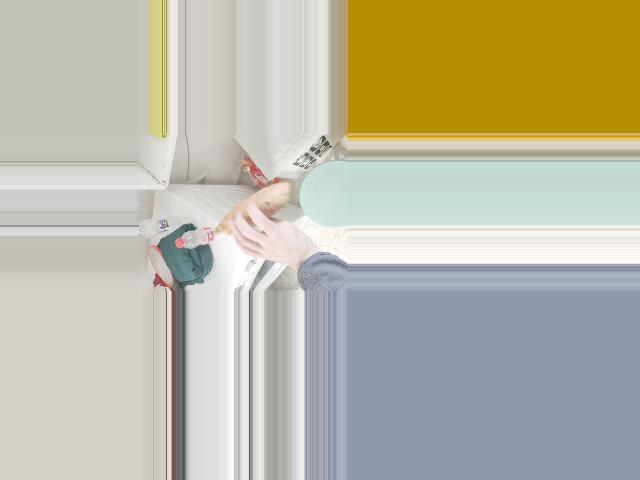sweet_potato: (217, 183, 279, 244)
